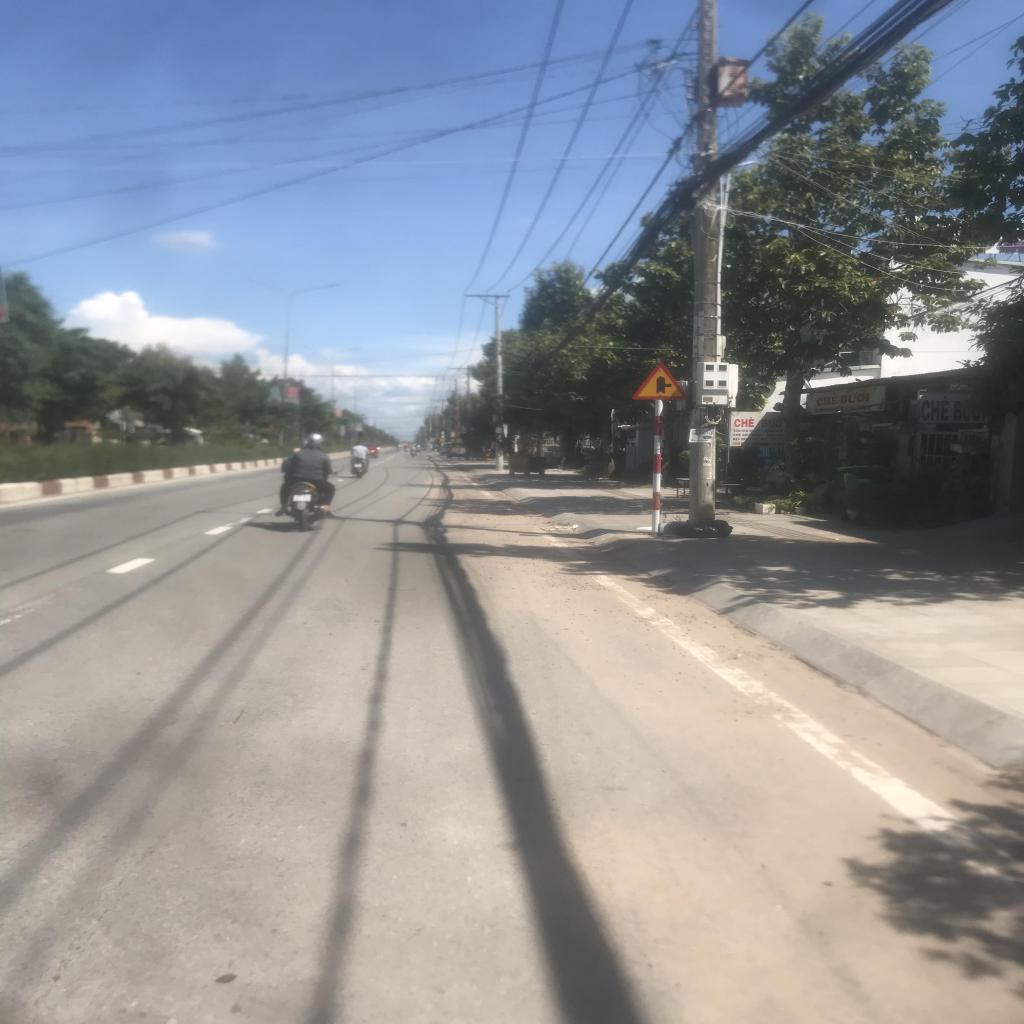giao_nhau_voi_duong_khong_uu_tien: (633, 363, 686, 399)
